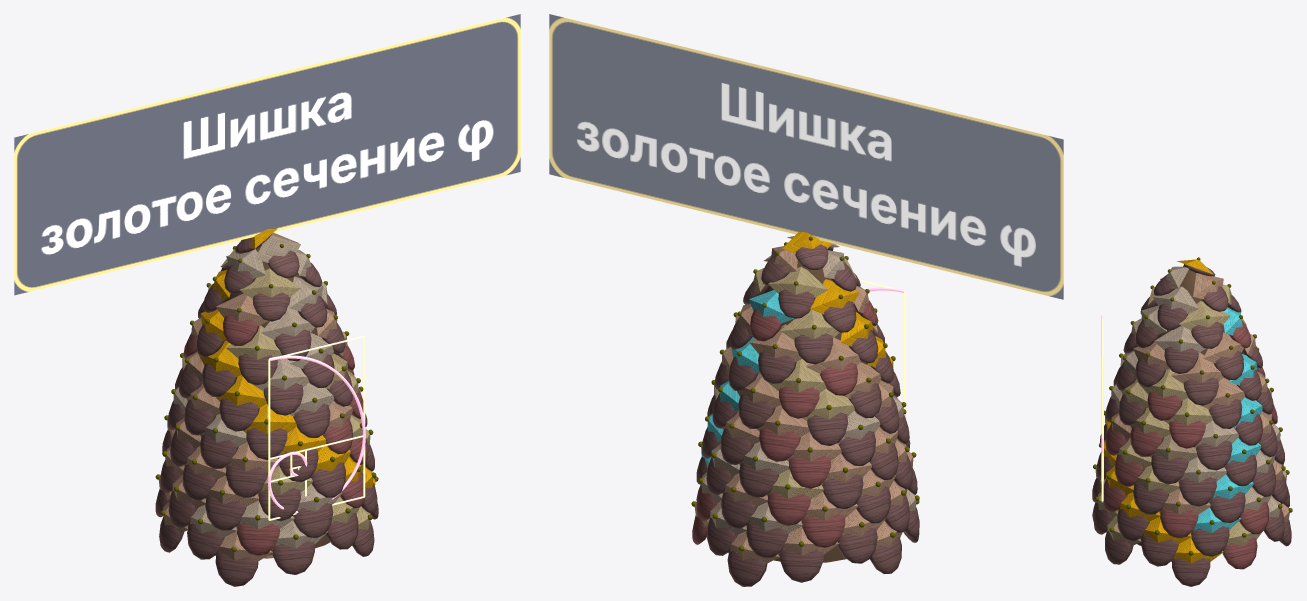
Rendered from pinecone.glb.
3 renders of one model, left to right at view 1: azimuth 30°, elevation 25°; view 2: azimuth 150°, elevation 25°; view 3: azimuth 270°, elevation 25°, orthographic. The views are drawn at different scales.
Size of the model in its own units: 0.2281 by 0.205 by 0.0873.
Materials: 48 (10 with a texture image).
